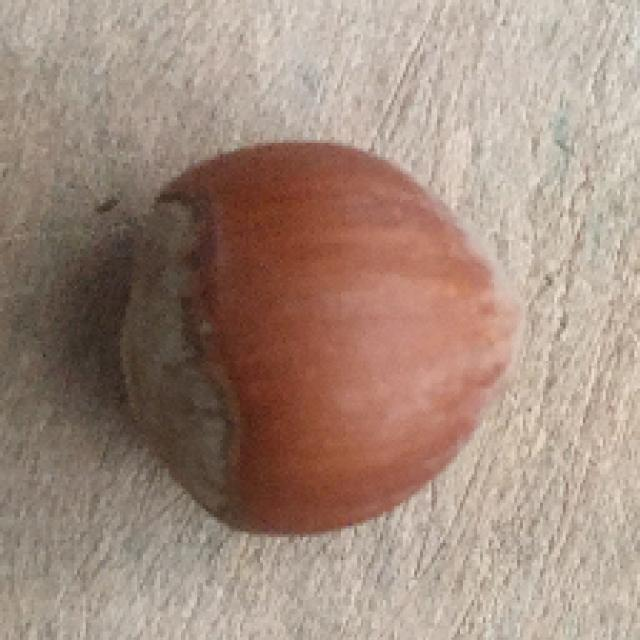qualityHazelnut: (129, 136, 525, 533)
